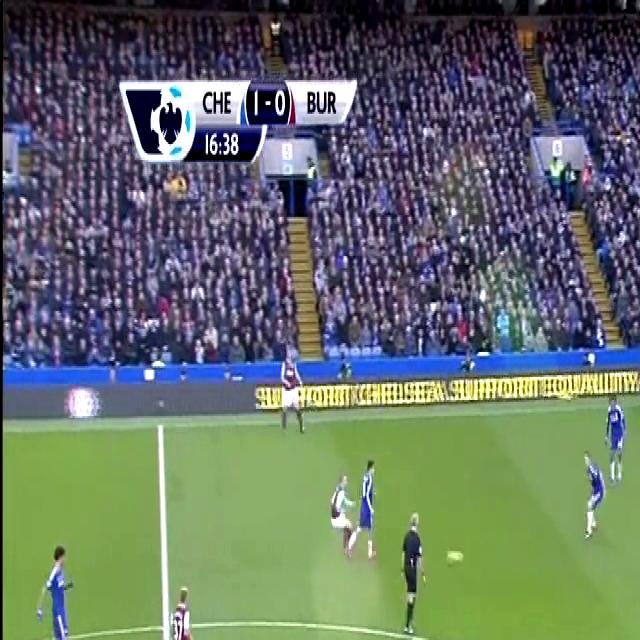ball: (444, 533, 466, 577)
referee: (395, 499, 433, 640)
soccer-player: (28, 528, 82, 640), (595, 377, 631, 490), (161, 565, 205, 640), (274, 336, 306, 436), (353, 443, 381, 557), (578, 439, 606, 541), (326, 458, 356, 553)
